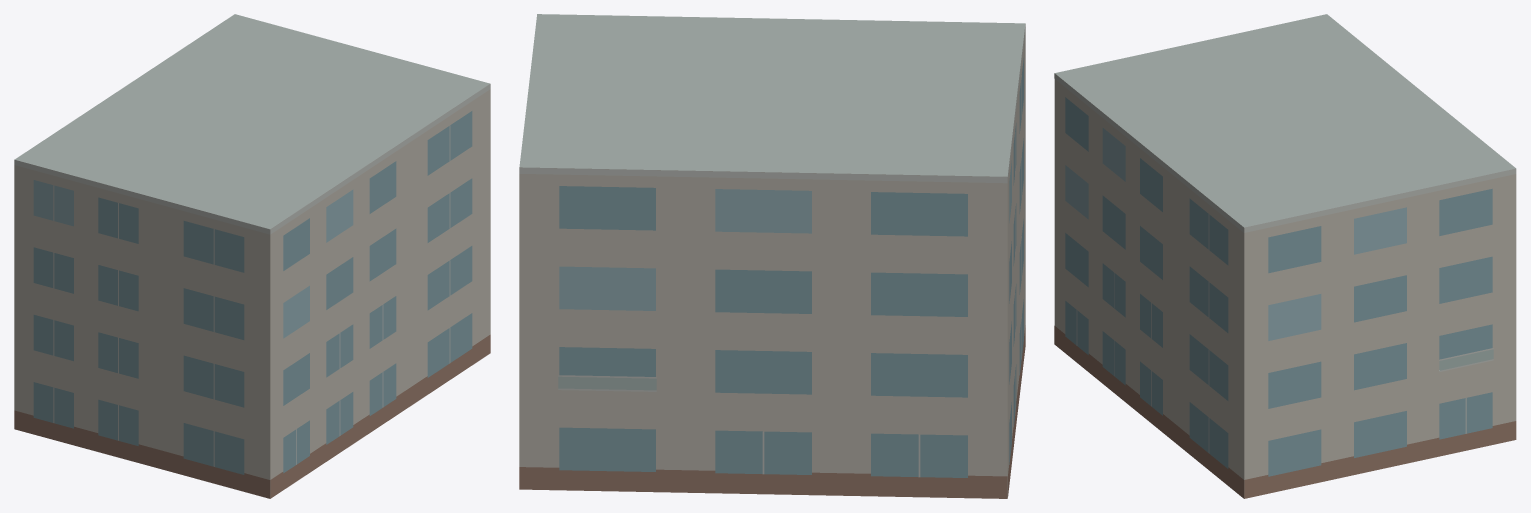
The model's file is survey-upis-32706708.glb.
The picture shows the model from 3 angles, left to right: view 1: azimuth 30°, elevation 25°; view 2: azimuth 150°, elevation 25°; view 3: azimuth 270°, elevation 25°; orthographic projection. The views are drawn at different scales.
Parts seen in each view (by area): view 1: survey-upis-32706708.tmp; view 2: survey-upis-32706708.tmp; view 3: survey-upis-32706708.tmp.
Boxes of the visible parts, box(x1,y1,x2,y2) form: survey-upis-32706708.tmp: box(14, 14, 490, 498); survey-upis-32706708.tmp: box(519, 14, 1025, 498); survey-upis-32706708.tmp: box(1054, 14, 1516, 498).
Bounding box in the file's own units: 20.61 × 12.2 × 18.83.
